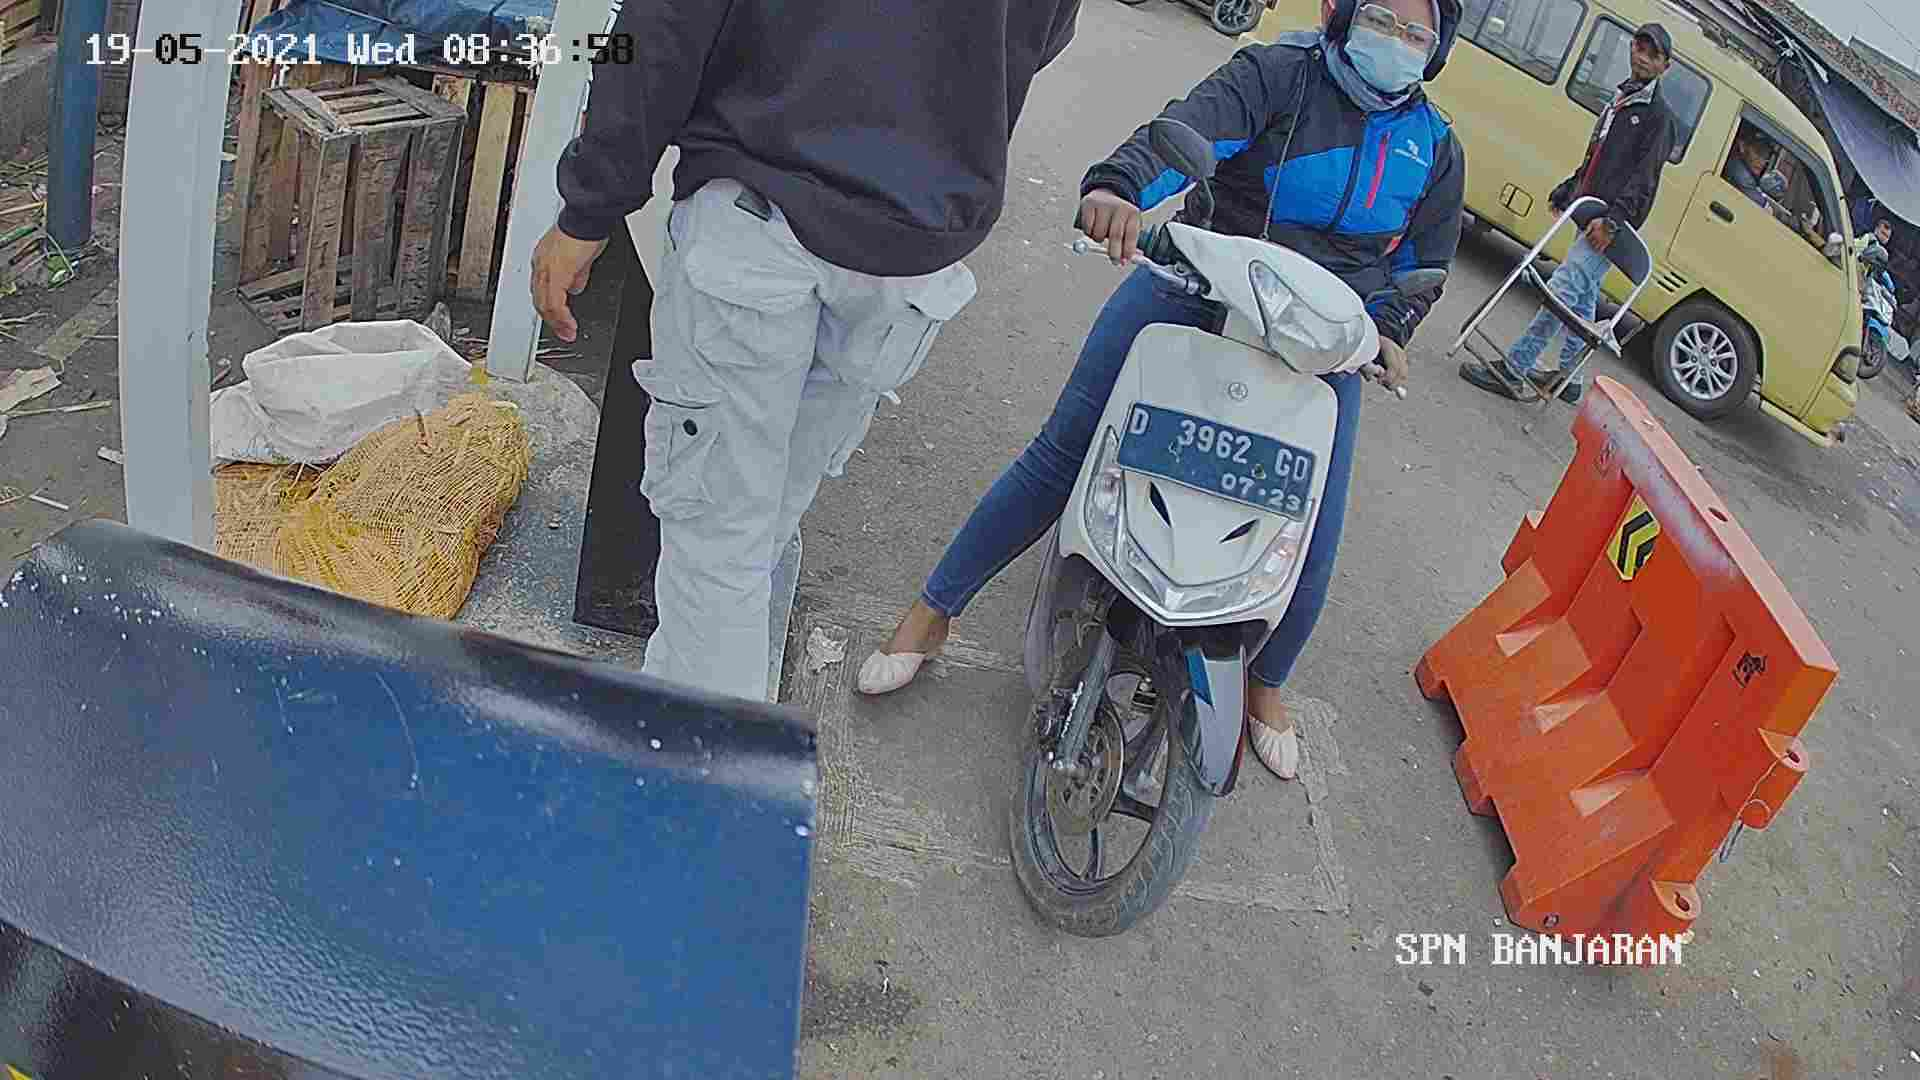motor: (971, 224, 1414, 922)
